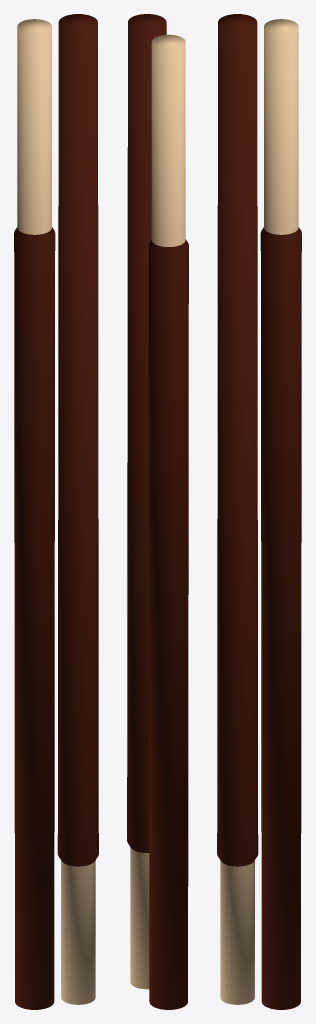
File: pokki.fbx
3 views of the same model, side by side, from view 1: azimuth 90°, elevation 25°; view 2: azimuth 210°, elevation 25°; view 3: azimuth 270°, elevation 25° (orthographic).
Visible parts, largest first — view 1: 円柱.004; view 2: 円柱.004; view 3: 円柱.004.
Boxes of the visible parts, x1,y1,x2,y2 form: 円柱.004: (14,14,98,1009); 円柱.004: (127,14,188,1009); 円柱.004: (217,14,301,1009).
Bounding box in the file's own units: 1.72 × 45.33 × 3.55.
